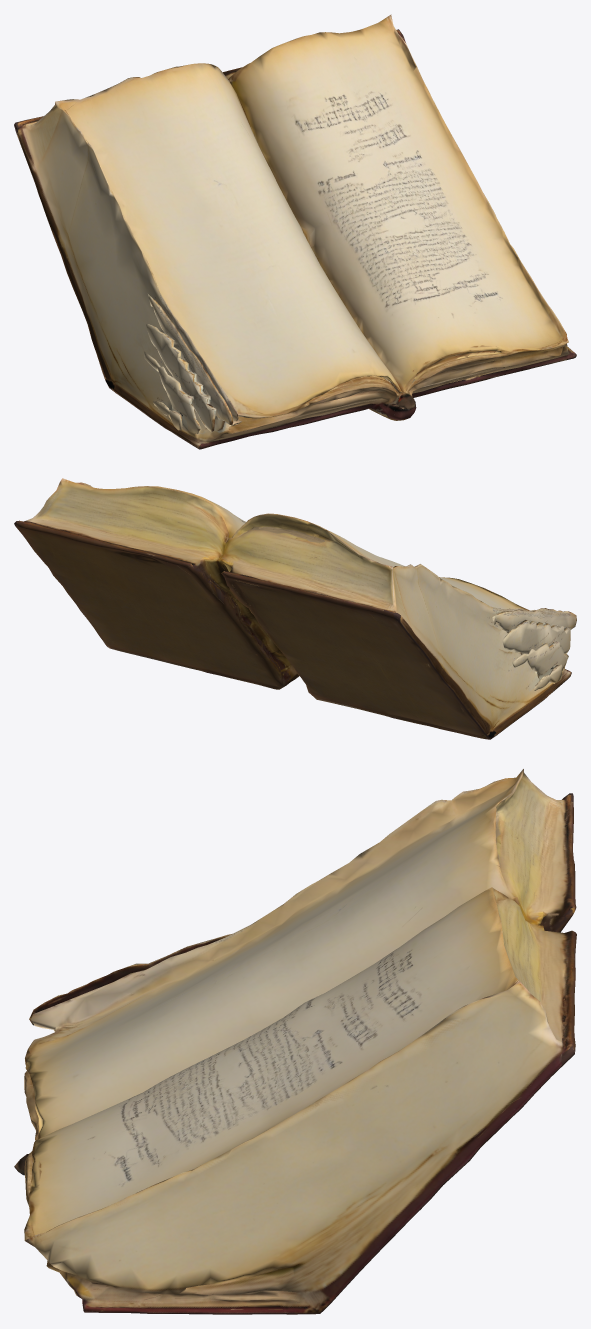
The model's file is give_me_a_small_book__0810195948_texture.fbx.
3 renders of one model, top to bottom at view 1: azimuth 30°, elevation 25°; view 2: azimuth 150°, elevation 25°; view 3: azimuth 270°, elevation 25°, orthographic. The views are drawn at different scales.
Parts seen in each view (by area): view 1: Mesh1.0; view 2: Mesh1.0; view 3: Mesh1.0.
Part boxes in pixels (left/top/right/bottom): Mesh1.0: left=14, top=14, right=576, bottom=449; Mesh1.0: left=14, top=478, right=576, bottom=739; Mesh1.0: left=14, top=769, right=576, bottom=1314.
Size of the model in its own units: 200 by 122 by 185.
1 material, 1 textured.
